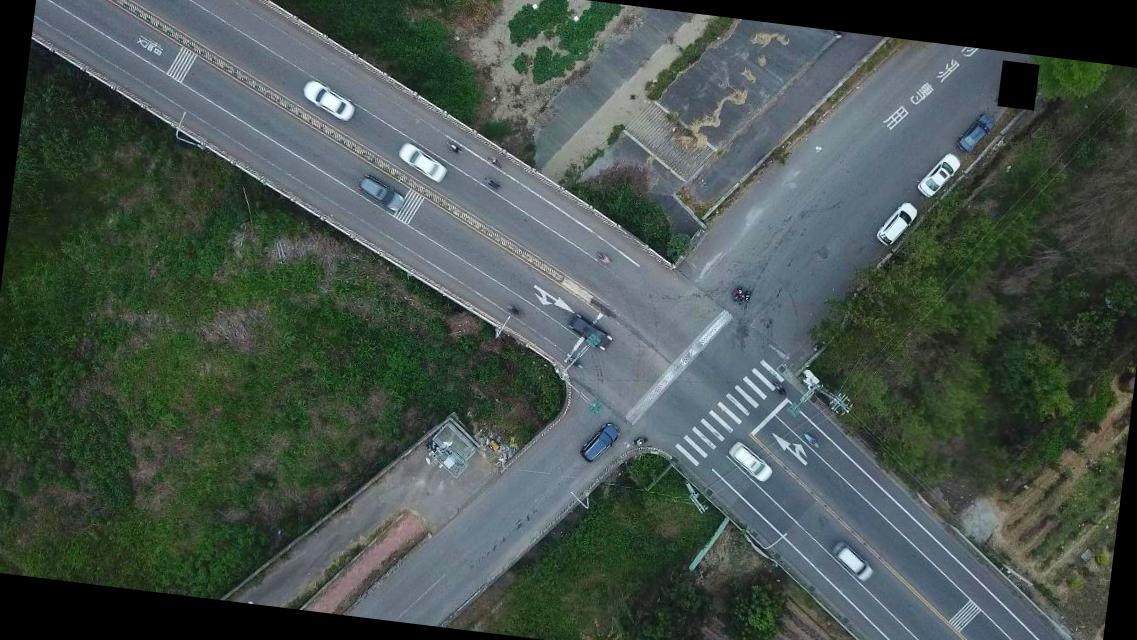vehicle: (298, 75, 358, 124), (394, 142, 449, 183), (916, 150, 961, 200), (353, 174, 409, 212), (876, 198, 918, 248), (725, 442, 775, 482), (956, 108, 996, 156), (566, 314, 616, 352), (578, 420, 619, 466), (828, 541, 874, 582)
